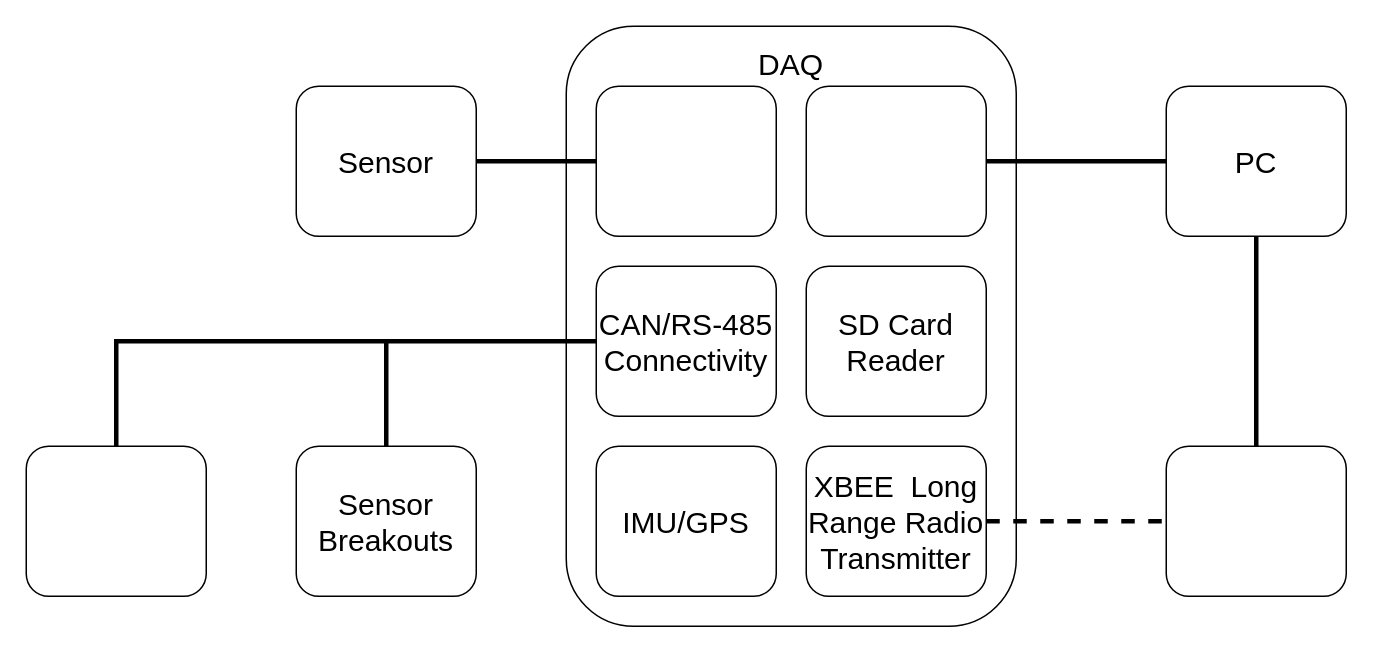
Some shapes in this 1373 by 653 pixel diagram are drawn without their labels. Each missing label, with the centre of its shape:
Dashboard: [115,520]
Direct Sensor Inputs: [685,160]
USB Connectivity: [895,160]
XBEE Long Range Radio Receiver: [1255,520]
